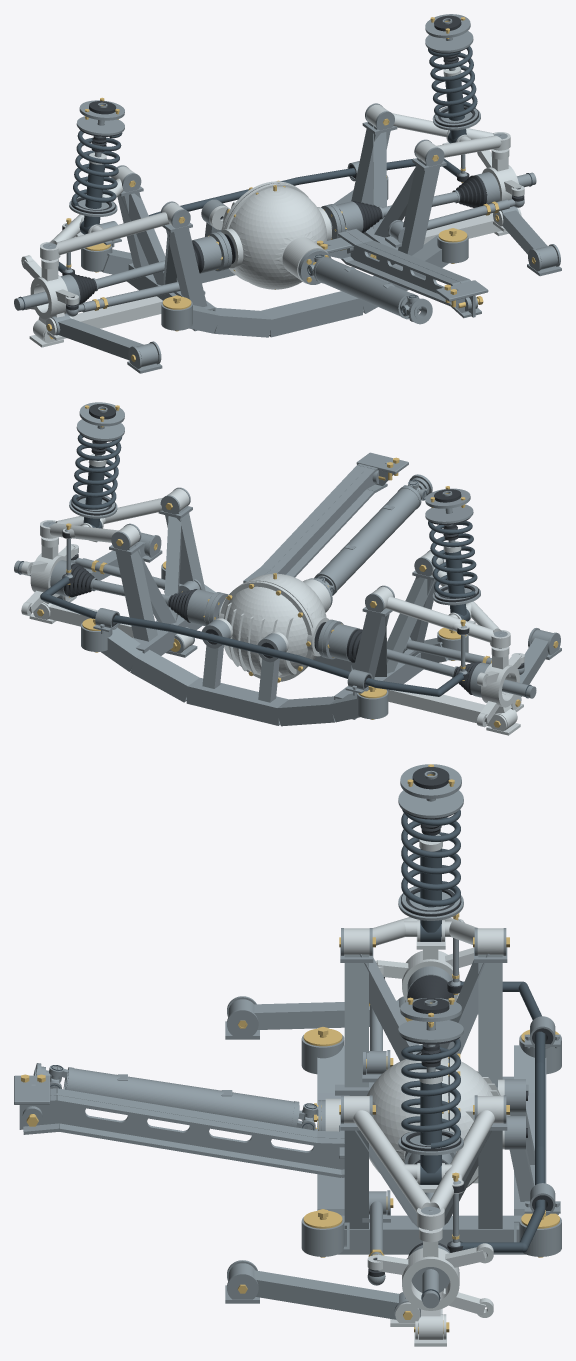
File: structure-rear.glb
The picture shows the model from 3 angles, top to bottom: view 1: azimuth 30°, elevation 25°; view 2: azimuth 150°, elevation 25°; view 3: azimuth 270°, elevation 25°; orthographic projection. The views are drawn at different scales.
Parts seen in each view (by area): view 1: RSU-001, DIF-001, PPF-001, RSU-RR-001, RSU-RR-031, RSU-RL-001, DRV-001, RSU-RR-016, RSU-RR-036, RSU-RL-036, RSU-RR-002, RSU-RL-031 (+26 smaller); view 2: RSU-001, DIF-002, PPF-001, RSU-014, DRV-001, RSU-RR-031, RSU-RR-001, RSU-RL-001, RSU-RL-031, RSU-RR-036, DIF-001, RSU-RL-036 (+25 smaller); view 3: RSU-001, PPF-001, RSU-RL-001, RSU-RL-031, DRV-001, RSU-RL-016, RSU-RL-036, DIF-001, RSU-RR-036, RSU-014, RSU-RR-001, RSU-RR-016 (+19 smaller).
Part boxes in pixels (x1,y1,x2,y2): RSU-001: (81, 103, 468, 337); DIF-001: (221, 183, 331, 289); PPF-001: (338, 229, 481, 318); RSU-RR-001: (40, 166, 183, 260); RSU-RR-031: (21, 255, 78, 347); RSU-RL-001: (366, 104, 510, 163); DRV-001: (315, 258, 410, 316); RSU-RR-016: (51, 313, 158, 367); RSU-RR-036: (71, 130, 122, 205); RSU-RL-036: (428, 46, 477, 117); RSU-RR-002: (34, 296, 162, 342); RSU-RL-031: (477, 149, 524, 235); RSU-001: (81, 487, 468, 726); DIF-002: (215, 581, 312, 681); PPF-001: (243, 463, 387, 582); RSU-014: (40, 576, 463, 696); DRV-001: (317, 488, 419, 591); RSU-RR-031: (477, 646, 524, 735); RSU-RR-001: (371, 550, 510, 648); RSU-RL-001: (40, 488, 189, 547); RSU-RL-031: (21, 536, 78, 623); RSU-RR-036: (428, 521, 477, 598); DIF-001: (218, 573, 330, 671); RSU-RL-036: (71, 434, 122, 509); RSU-001: (301, 928, 561, 1256); PPF-001: (19, 1088, 344, 1177); RSU-RL-001: (344, 1096, 503, 1229); RSU-RL-031: (367, 1227, 493, 1346); DRV-001: (71, 1068, 294, 1126); RSU-RL-016: (228, 1263, 420, 1319); RSU-RL-036: (401, 1037, 460, 1148); DIF-001: (325, 1057, 457, 1172); RSU-RR-036: (401, 809, 460, 906); RSU-014: (460, 981, 545, 1252); RSU-RR-001: (344, 917, 503, 955); RSU-RR-016: (228, 996, 405, 1029).
Size of the model in its own units: 1.63 by 0.7032 by 1.11.
